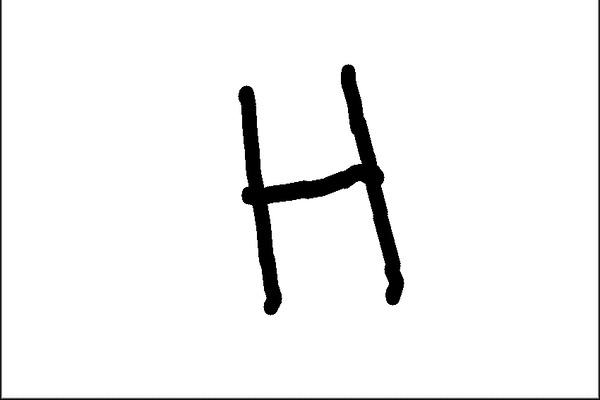H: (228, 62, 411, 315)
